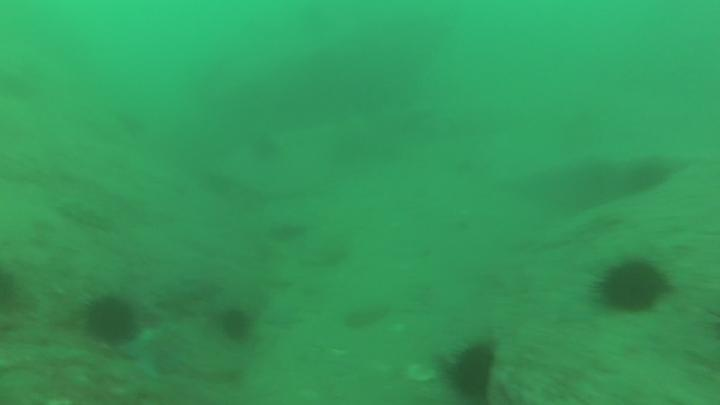echinus: (588, 254, 674, 317), (442, 340, 495, 405), (82, 295, 140, 348), (219, 305, 255, 346), (630, 163, 671, 193), (245, 129, 281, 162)
holothurian: (53, 194, 123, 235)
